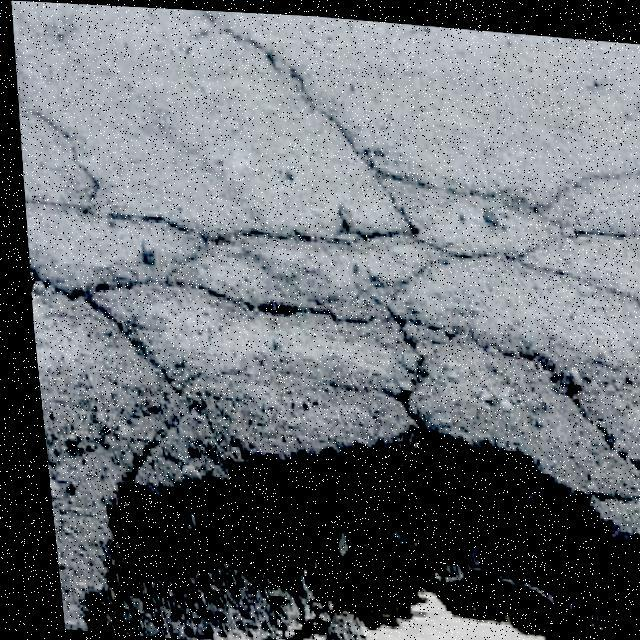pothole: (41, 365, 640, 640)
